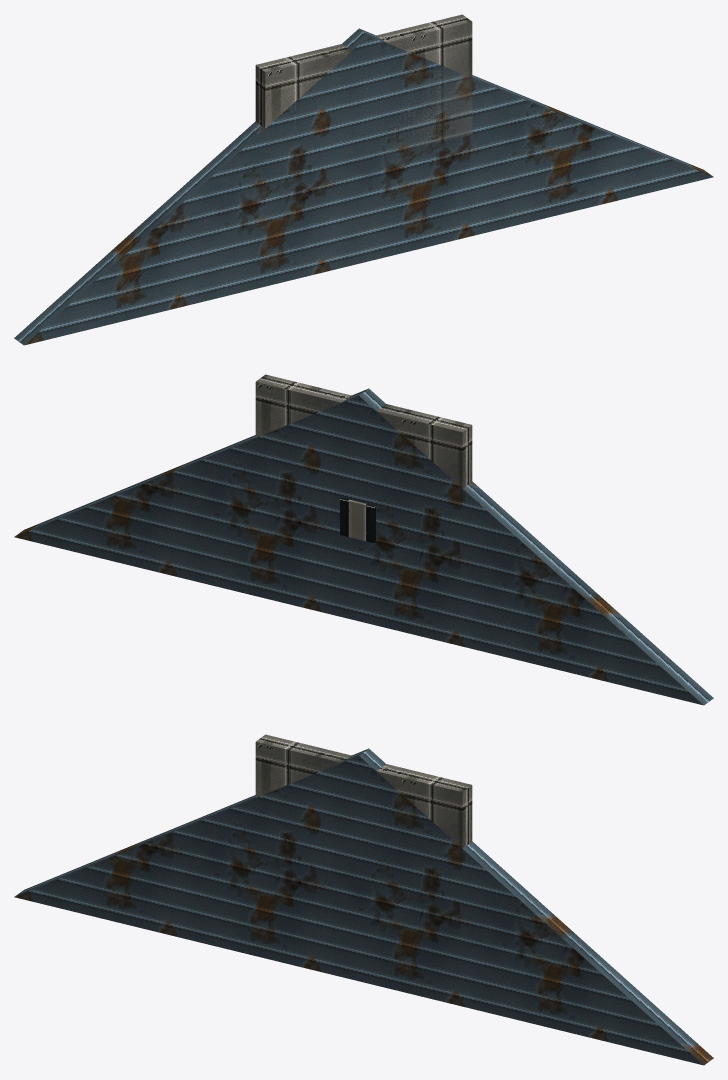
File: gable_siding_blue_12.glb
3 renders of one model, top to bottom at view 1: azimuth 30°, elevation 25°; view 2: azimuth 150°, elevation 25°; view 3: azimuth 330°, elevation 25°, orthographic.
Parts seen in each view (by area): view 1: gable_siding_blue_12_mesh, gable_siding_blue_12_col-colonly.001; view 2: gable_siding_blue_12_mesh, gable_siding_blue_12_col-colonly.001; view 3: gable_siding_blue_12_mesh, gable_siding_blue_12_col-colonly.001.
Part boxes in pixels (box(x1,y1,x2,y2)): gable_siding_blue_12_mesh: box(14, 28, 713, 345); gable_siding_blue_12_col-colonly.001: box(255, 14, 472, 165); gable_siding_blue_12_mesh: box(14, 388, 713, 705); gable_siding_blue_12_col-colonly.001: box(255, 374, 472, 492); gable_siding_blue_12_mesh: box(14, 748, 713, 1065); gable_siding_blue_12_col-colonly.001: box(255, 734, 472, 848).
Size of what is drawn, in the model's own units: 12 by 3.75 by 0.355.
Materials: 3 (3 with a texture image).
